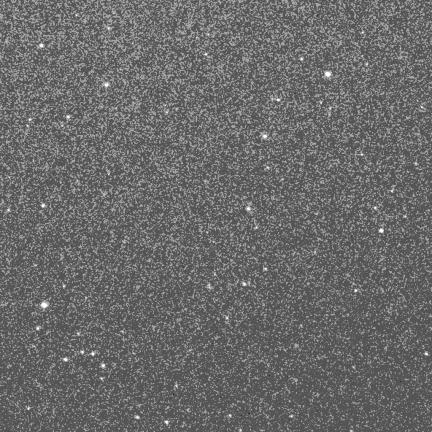blob: (41, 302, 48, 308), (325, 71, 331, 77), (80, 350, 85, 355), (165, 420, 169, 425), (41, 204, 46, 208), (36, 327, 41, 331), (91, 351, 95, 356), (135, 415, 140, 419), (104, 83, 109, 87), (354, 289, 359, 293), (39, 43, 44, 47), (379, 229, 383, 233), (228, 414, 232, 418), (63, 357, 67, 361), (101, 364, 105, 368), (425, 352, 429, 356), (415, 162, 419, 166), (246, 207, 250, 211), (263, 135, 267, 139), (225, 316, 228, 320), (366, 63, 369, 67), (243, 282, 246, 286), (403, 215, 407, 218), (374, 206, 377, 209), (7, 209, 10, 212), (67, 115, 70, 118), (421, 106, 424, 109), (300, 57, 303, 60), (77, 332, 80, 335), (264, 268, 267, 271), (204, 53, 207, 56), (108, 27, 111, 30), (290, 415, 293, 418), (277, 98, 280, 101), (63, 284, 65, 288), (27, 407, 29, 410)
